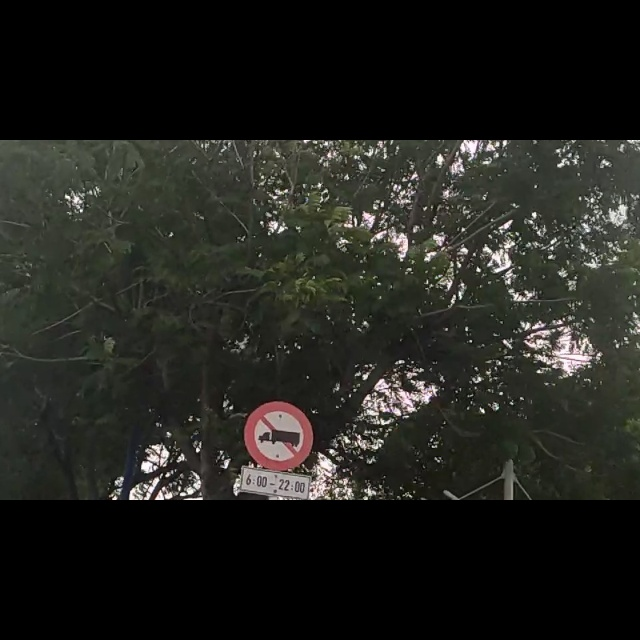bien_cam: (243, 465, 313, 635)
